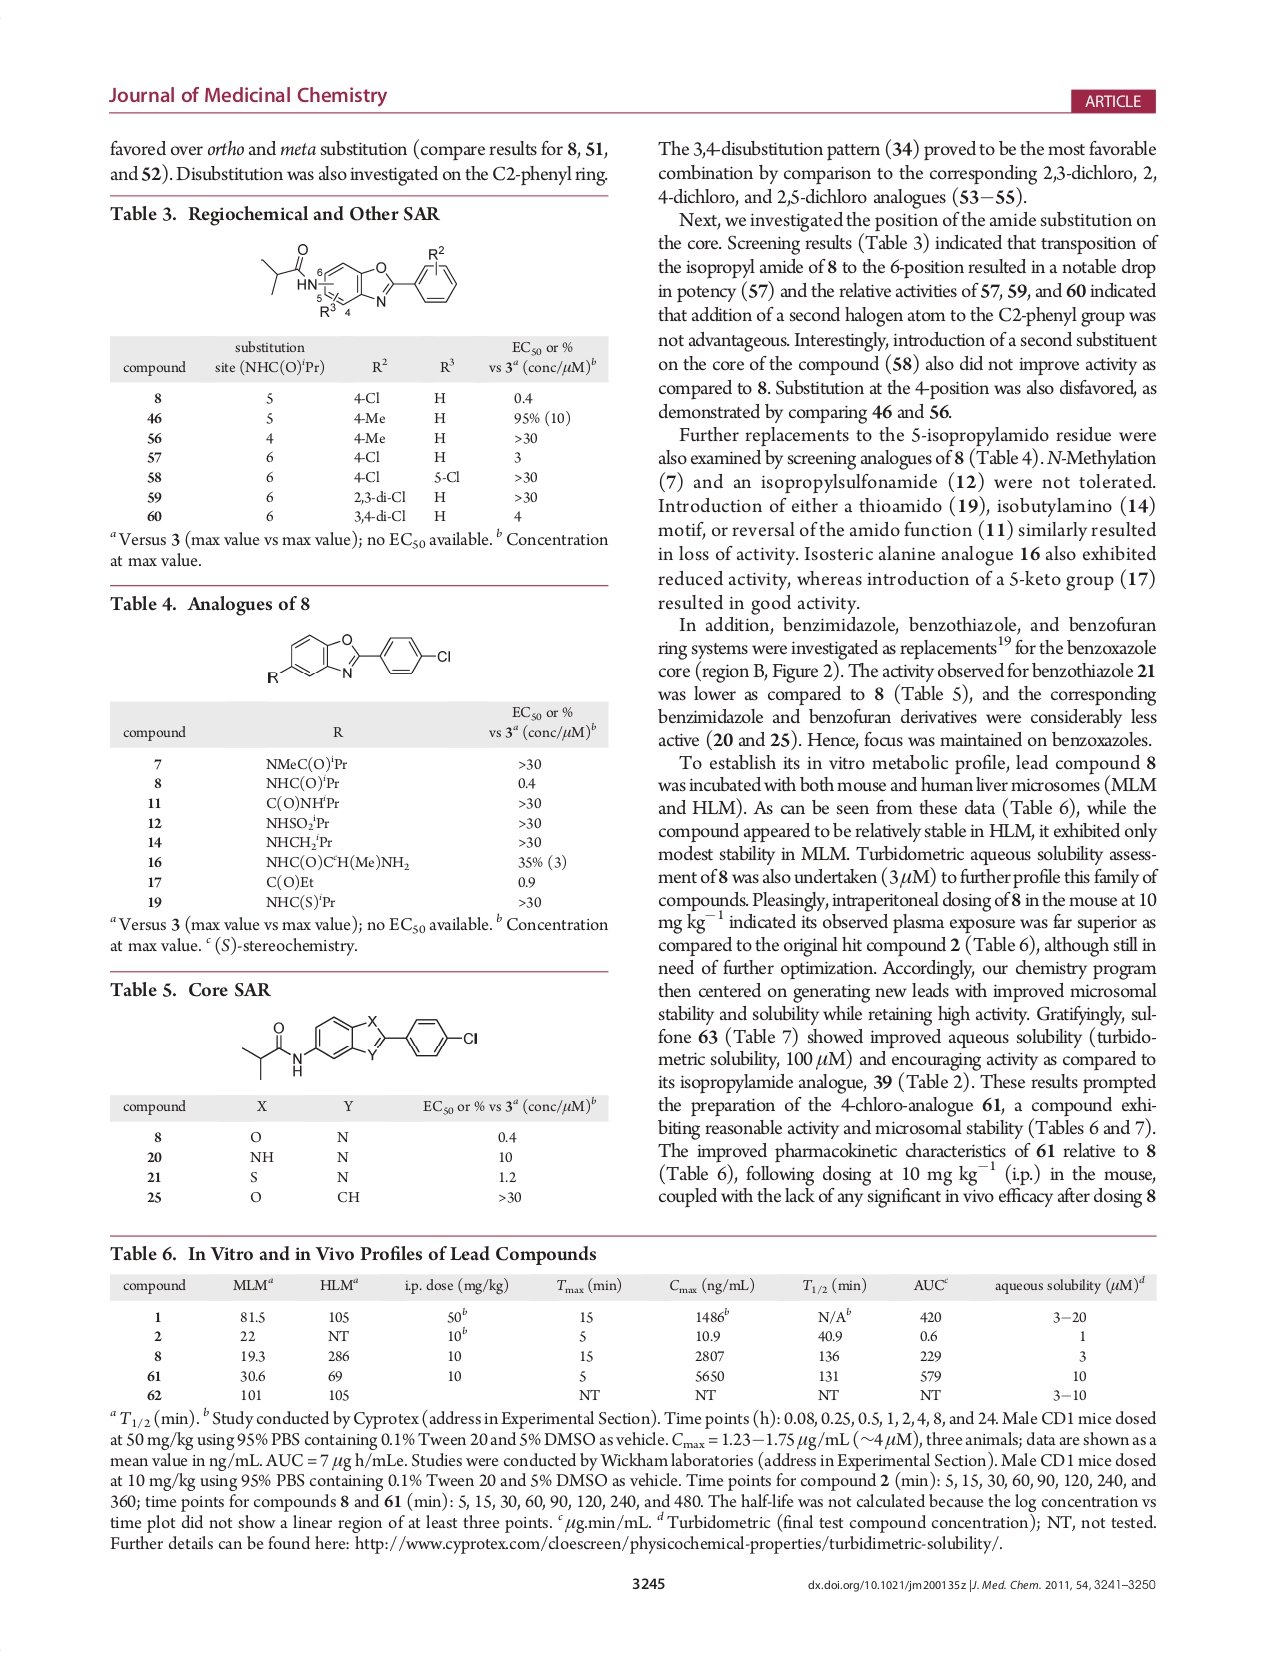exist_molecular: (239, 1009, 480, 1084), (259, 238, 460, 322), (262, 626, 452, 692)
